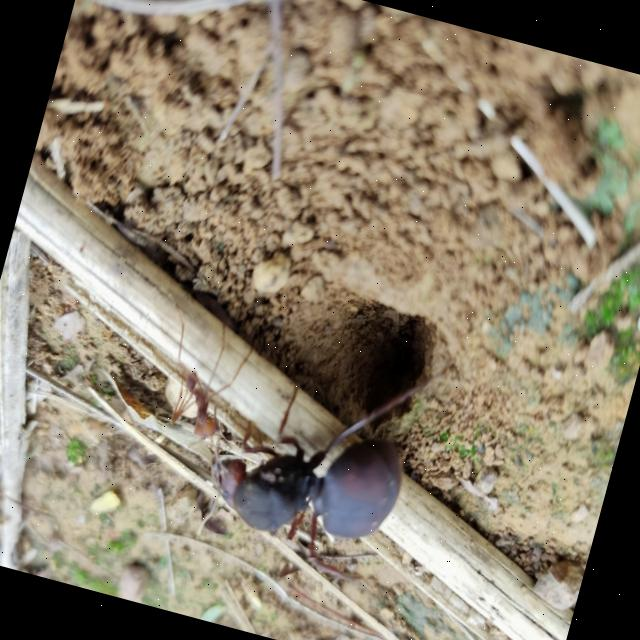Alive-Female-Dealate: (168, 326, 430, 578)
